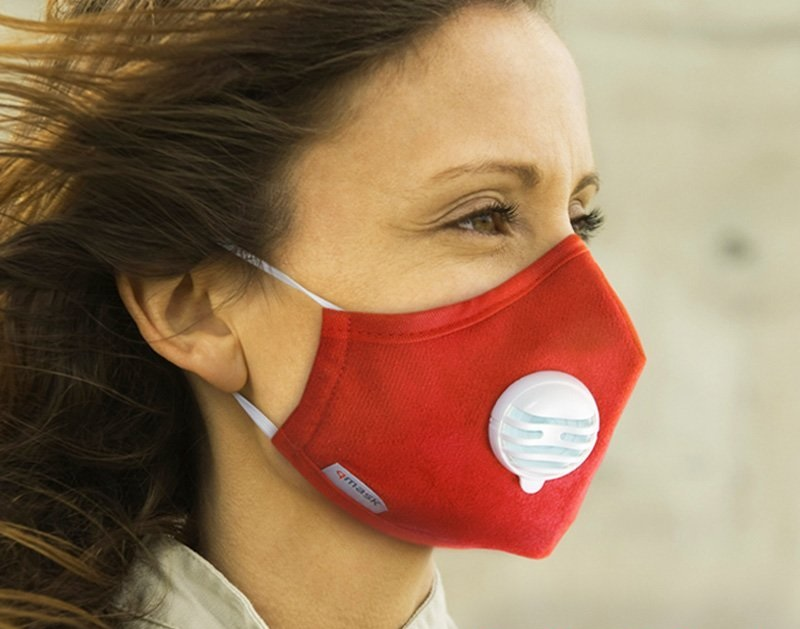face_mask: (268, 12, 644, 561)
